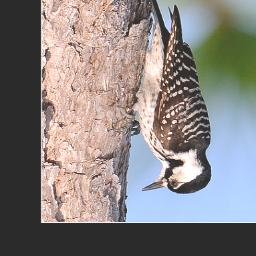Woodpecker: (125, 0, 217, 200)
